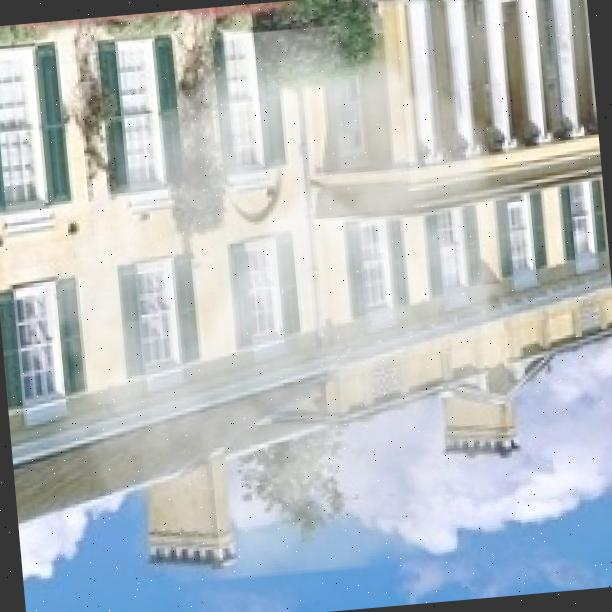smoke: (0, 7, 586, 595)
